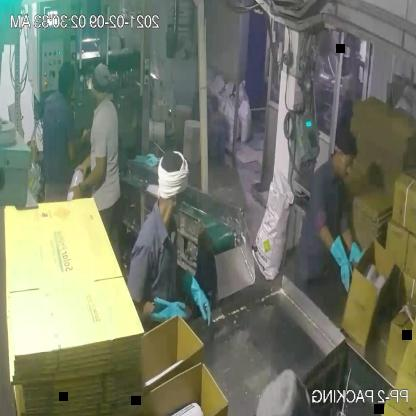glove: (183, 266, 217, 323), (144, 292, 188, 335), (329, 234, 357, 295), (346, 238, 370, 268)
no_glove: (65, 148, 110, 206), (61, 118, 95, 161)
